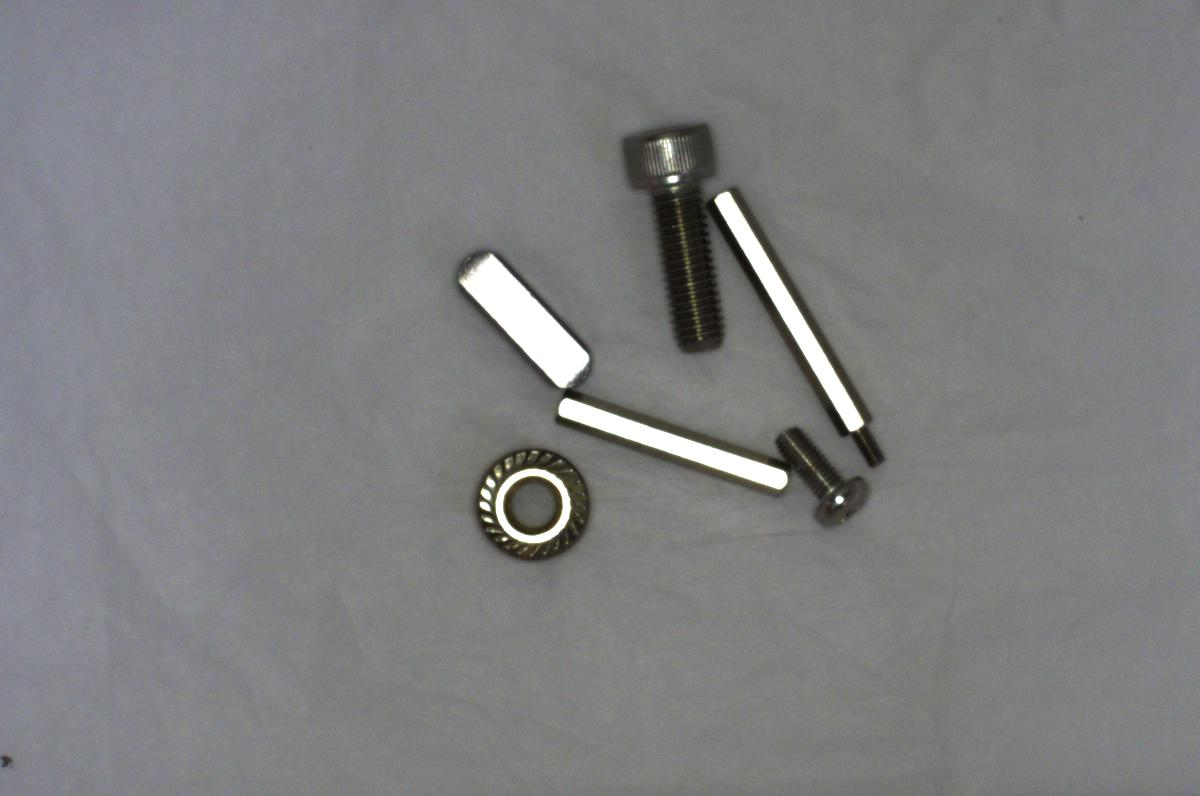Double hexagonal column: (539, 385, 792, 505)
Flange nut: (464, 439, 605, 571)
Hexagon screw: (605, 112, 730, 351)
Hexagonal steel column: (707, 181, 885, 463)
Keybar: (461, 249, 594, 389)
Round head screw: (775, 417, 878, 528)
